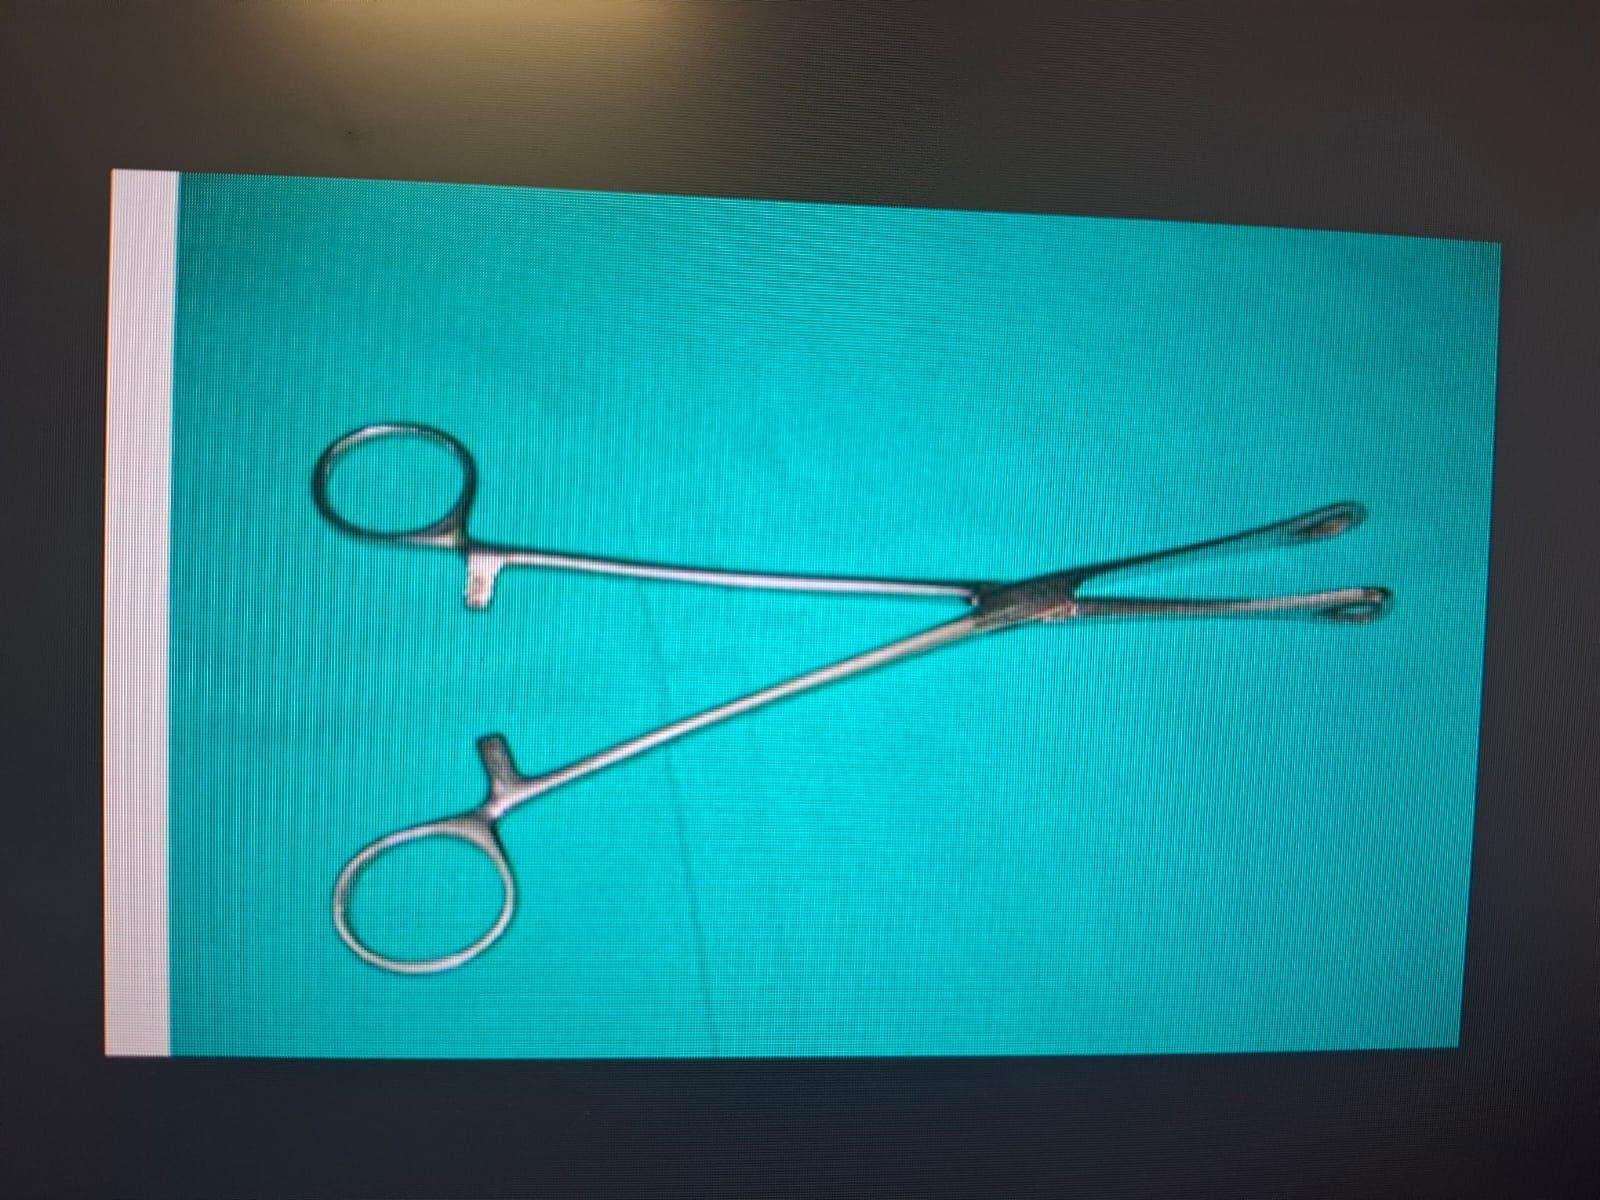Sponge Holding Forceps: (306, 404, 1400, 978)
